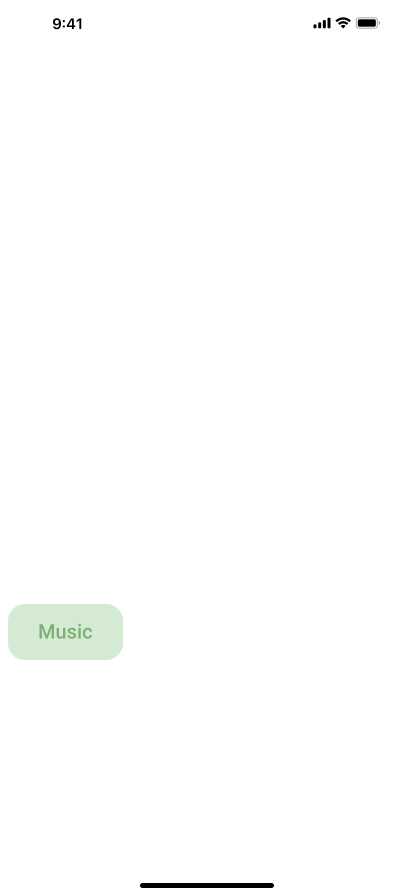Buttons: (8, 604, 131, 660)
Home Indicator: (0, 862, 414, 896)
Status Bar: (0, 0, 414, 44)
